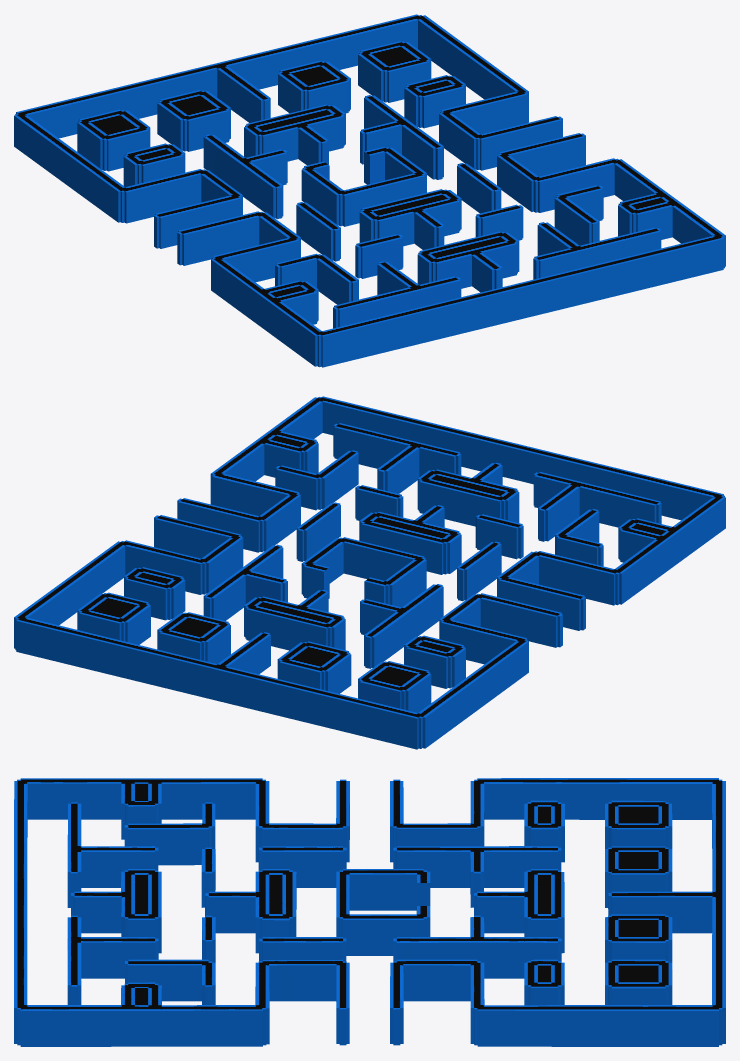
File: pacman_removed.FBX
3 renders of one model, top to bottom at view 1: azimuth 30°, elevation 25°; view 2: azimuth 150°, elevation 25°; view 3: azimuth 270°, elevation 25°, orthographic. The views are drawn at different scales.
Parts seen in each view (by area): view 1: 13.2.163.0; view 2: 13.2.163.0; view 3: 13.2.163.0.
Boxes of the visible parts, left/top/right/bottom form: 13.2.163.0: left=14, top=14, right=725, bottom=367; 13.2.163.0: left=14, top=396, right=725, bottom=749; 13.2.163.0: left=14, top=778, right=725, bottom=1046.
Bounding box in the file's own units: 3588 × 258 × 4634.
2 materials, 2 textured.
